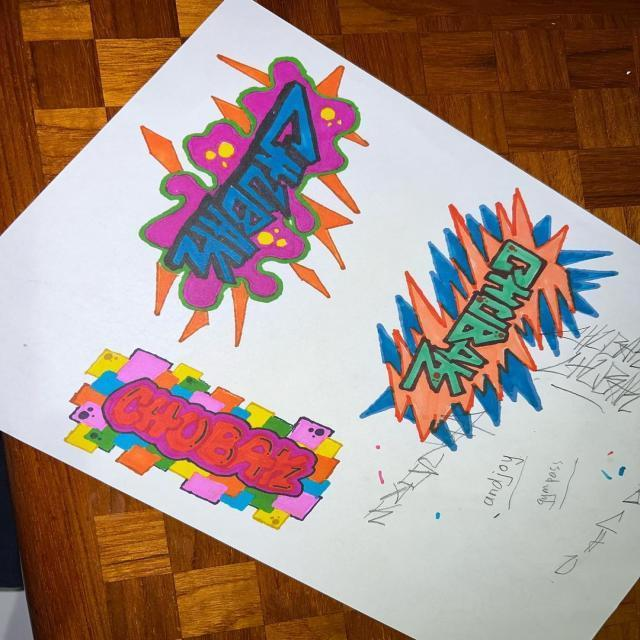-: (355, 176, 612, 448), (141, 38, 376, 334), (76, 324, 347, 548), (360, 403, 494, 533), (528, 310, 638, 433), (543, 488, 639, 574), (516, 450, 590, 507), (470, 446, 538, 508)
